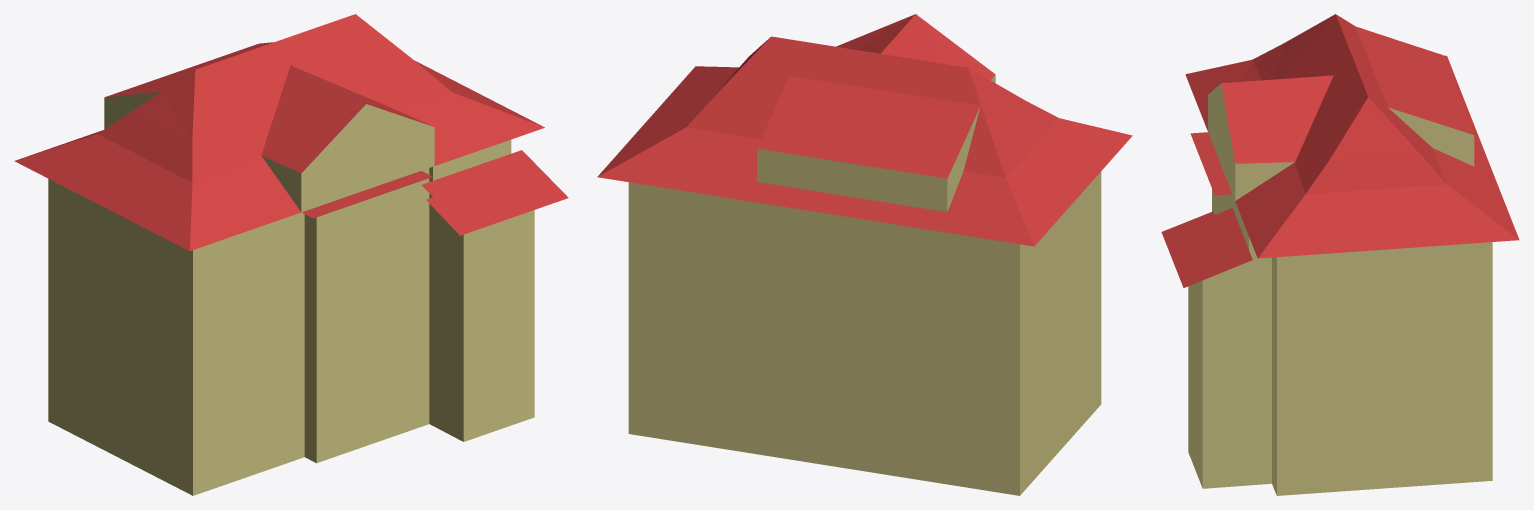
The picture shows the model from 3 angles, left to right: view 1: azimuth 30°, elevation 25°; view 2: azimuth 150°, elevation 25°; view 3: azimuth 270°, elevation 25°; orthographic projection. The views are drawn at different scales.
Parts seen in each view (by area): view 1: group_9, group_3, group_13, group_5, group_4, group_11, group_8, group_12, group_6, group_7; view 2: group_9, group_3, group_6, group_7, group_8, group_4; view 3: group_9, group_3, group_13, group_4, group_6, group_11, group_8, group_5, group_7, group_12.
Boxes of the visible parts, x1=… form: group_9: x1=48, y1=66, x2=511, y2=495; group_3: x1=14, y1=14, x2=544, y2=250; group_13: x1=433, y1=207, x2=534, y2=441; group_5: x1=262, y1=104, x2=434, y2=212; group_4: x1=261, y1=65, x2=432, y2=173; group_11: x1=421, y1=156, x2=567, y2=235; group_8: x1=17, y1=62, x2=542, y2=250; group_12: x1=433, y1=150, x2=568, y2=234; group_6: x1=105, y1=42, x2=274, y2=97; group_7: x1=104, y1=91, x2=161, y2=129; group_9: x1=628, y1=171, x2=1101, y2=495; group_3: x1=597, y1=36, x2=1132, y2=246; group_6: x1=757, y1=76, x2=980, y2=178; group_7: x1=757, y1=107, x2=980, y2=211; group_8: x1=599, y1=66, x2=1131, y2=244; group_4: x1=836, y1=14, x2=995, y2=80; group_9: x1=1212, y1=189, x2=1492, y2=495; group_3: x1=1185, y1=14, x2=1519, y2=258; group_13: x1=1188, y1=261, x2=1248, y2=488; group_4: x1=1221, y1=75, x2=1333, y2=163; group_6: x1=1356, y1=26, x2=1474, y2=134; group_11: x1=1161, y1=208, x2=1248, y2=287; group_8: x1=1186, y1=69, x2=1518, y2=258; group_5: x1=1208, y1=83, x2=1294, y2=200; group_7: x1=1388, y1=107, x2=1474, y2=166; group_12: x1=1162, y1=215, x2=1252, y2=287.
Size of the model in its own units: 15.45 by 11.54 by 12.38.
